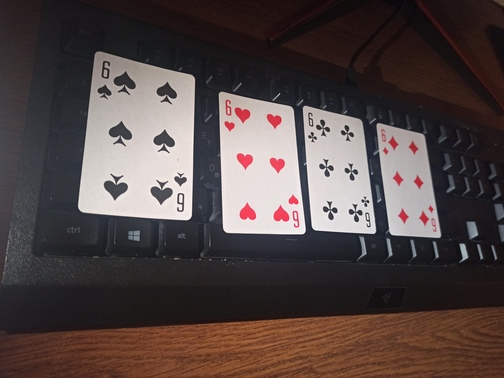sixclubs: (302, 100, 380, 238)
sixdiamonds: (377, 123, 443, 239)
sixhearts: (216, 88, 303, 241)
sixspades: (76, 50, 200, 220)
